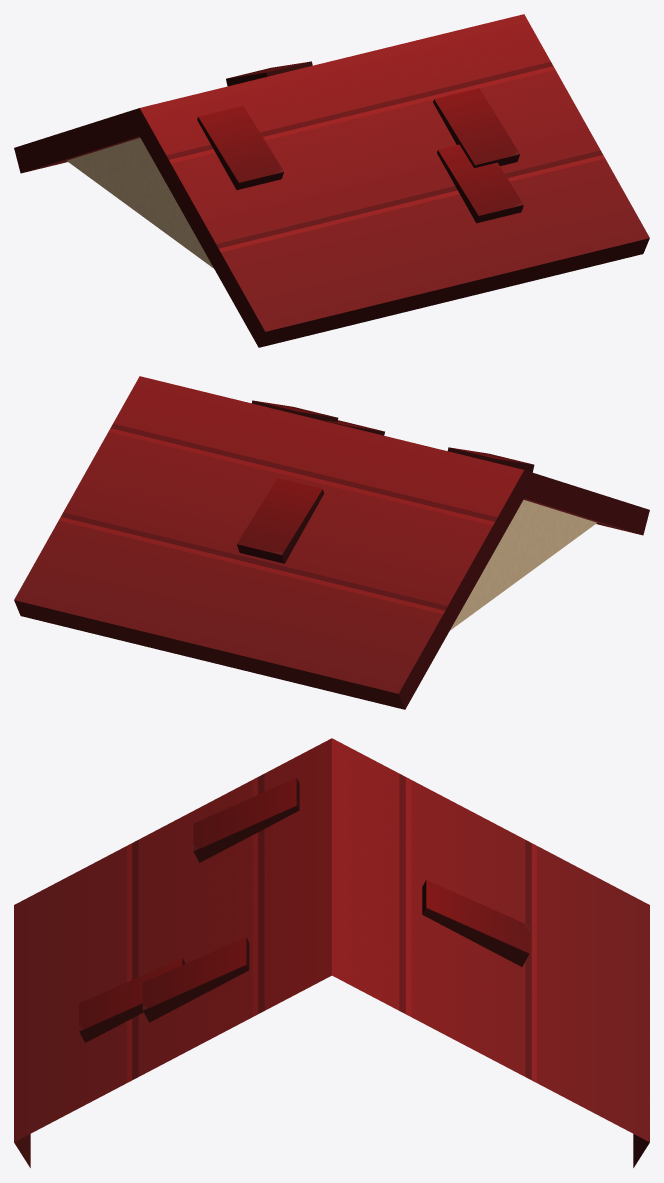
The model's file is MESH_Petit_Toit_02.fbx.
The picture shows the model from 3 angles, top to bottom: view 1: azimuth 30°, elevation 25°; view 2: azimuth 150°, elevation 25°; view 3: azimuth 270°, elevation 25°; orthographic projection. The views are drawn at different scales.
Visible parts, largest first — view 1: MESH_Petit_Toit_02; view 2: MESH_Petit_Toit_02; view 3: MESH_Petit_Toit_02.
Boxes of the visible parts, x1,y1,x2,y2 form: MESH_Petit_Toit_02: [14, 14, 649, 347]; MESH_Petit_Toit_02: [14, 376, 649, 709]; MESH_Petit_Toit_02: [14, 738, 649, 1167].
Bounding box in the file's own units: 3.18 × 1.21 × 3.6.
